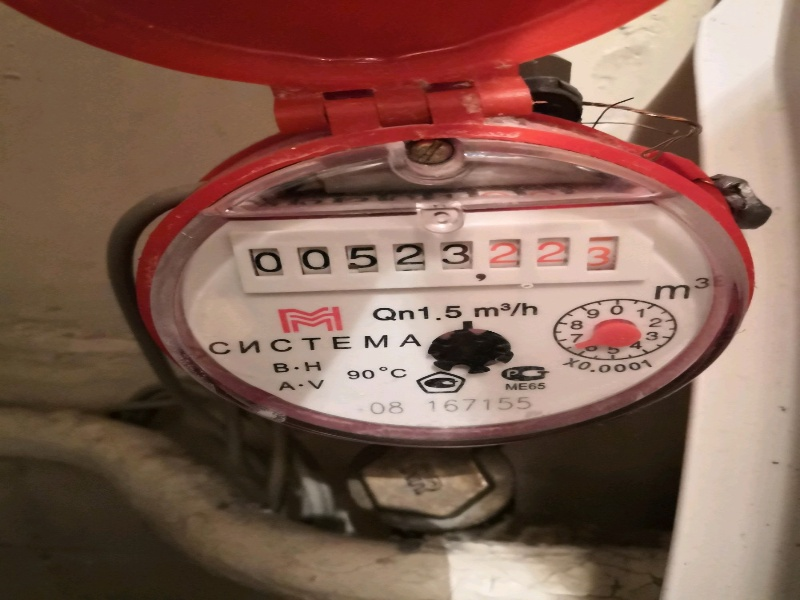meter: (226, 214, 631, 287)
